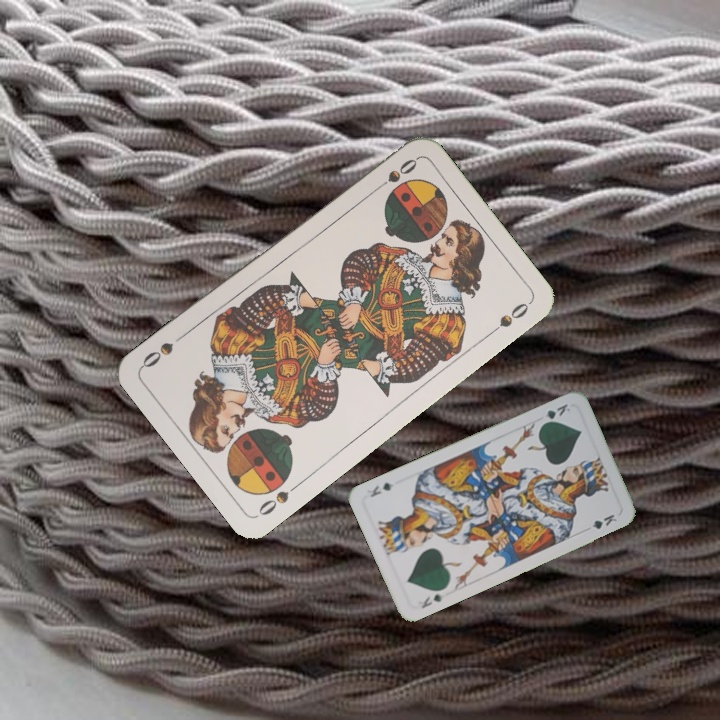GK: (537, 399, 573, 428), (417, 590, 447, 611)
SO: (369, 154, 420, 195), (254, 478, 304, 519)
